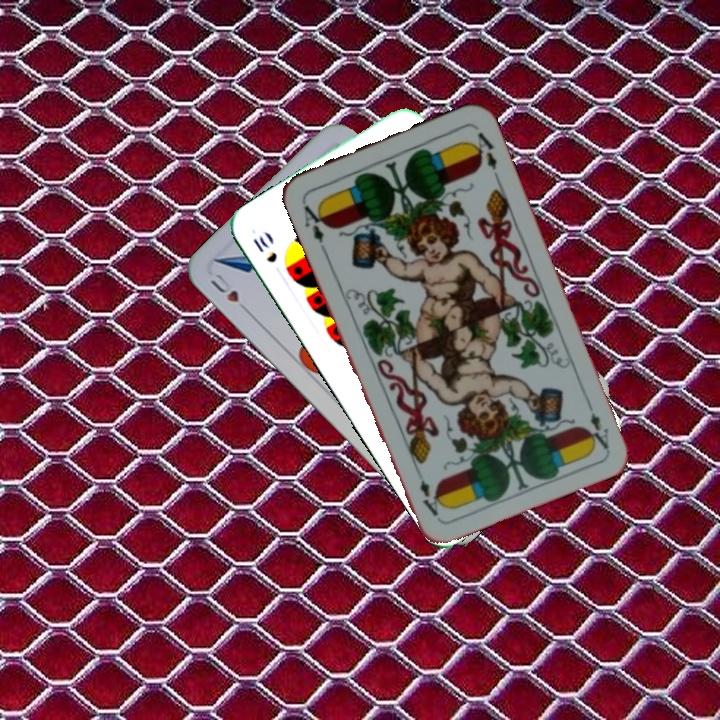EA: (298, 196, 330, 253), (582, 395, 612, 452)
HU: (206, 268, 253, 317)
S10: (249, 231, 280, 266)
